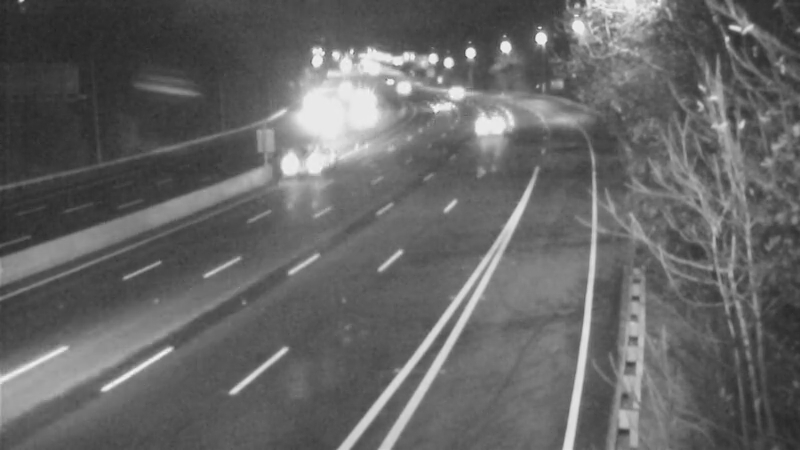vehicle: (262, 120, 342, 200), (380, 63, 430, 113), (430, 70, 480, 120), (418, 80, 468, 130), (467, 100, 517, 150)
